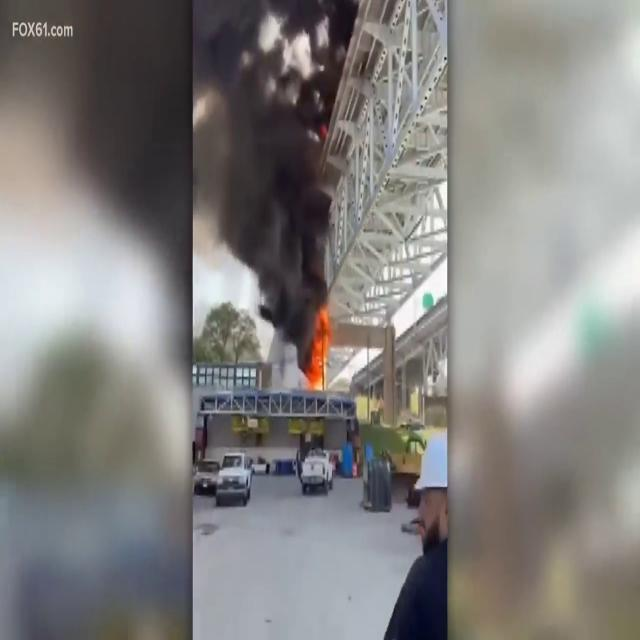Fire: (306, 303, 336, 390)
Smoke: (192, 65, 340, 330)
